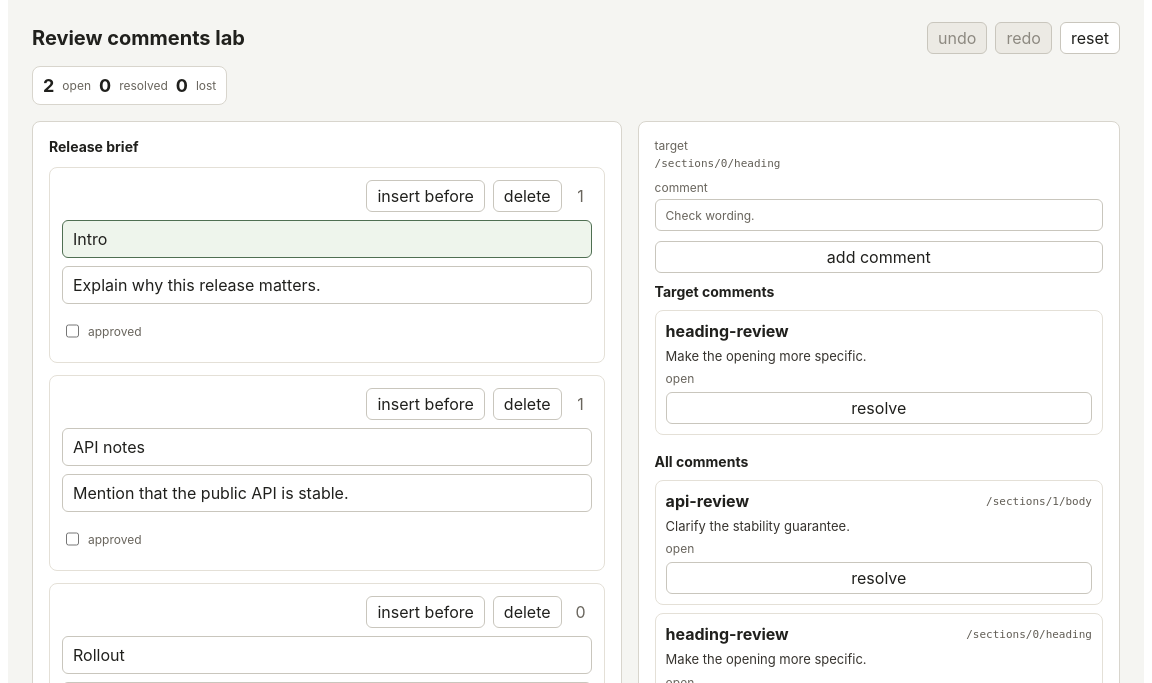
Test case: review comments lab dogfood › tracks comment anchors after structural insertion
Click the button with aria-label "insert before /sections/0": (426, 196) [366,180,485,212]
(page scrolled)
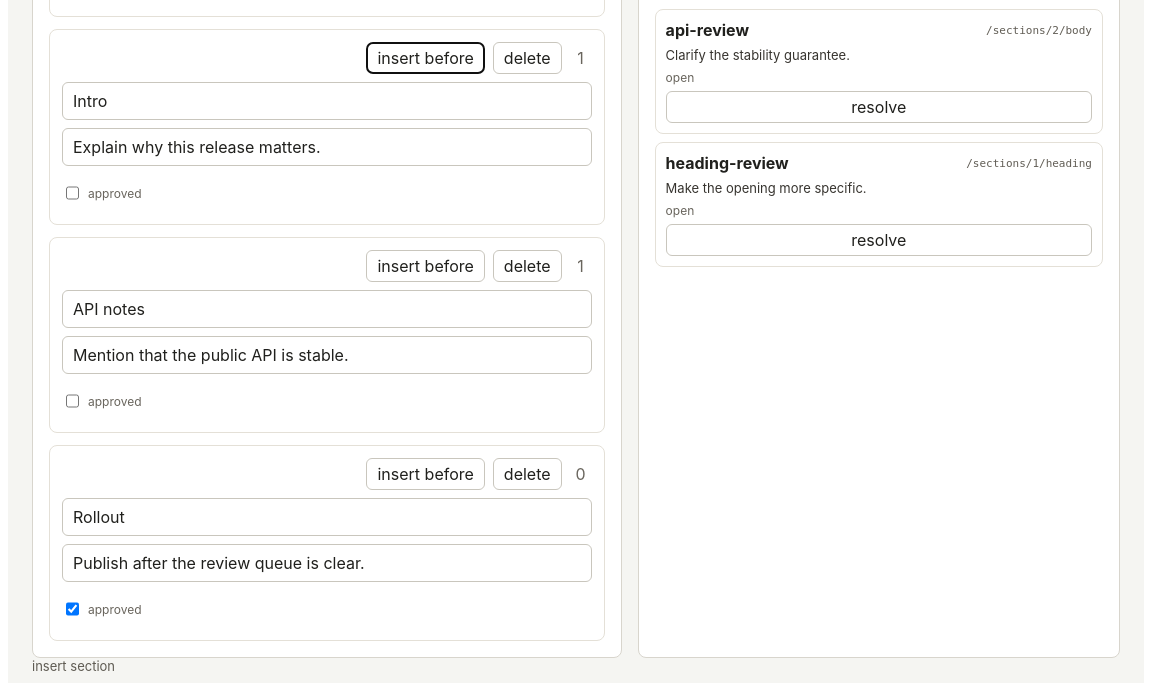
Result: the text "/sections/1/heading" is shown at [966,157,1092,170]
Result: the text "/sections/2/body" is shown at [986,24,1092,36]
Result: the message reads "insert section" at [32,658,115,674]
